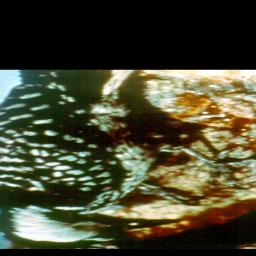Woodpecker: (0, 70, 256, 248)
